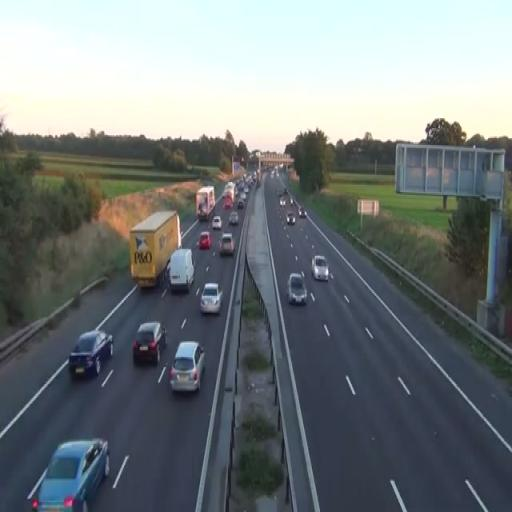Car: (28, 436, 110, 510), (68, 329, 114, 379), (169, 341, 206, 393), (132, 320, 168, 366), (199, 282, 224, 315), (287, 272, 307, 306), (311, 254, 329, 282), (218, 232, 236, 256), (198, 231, 212, 250), (212, 216, 222, 230), (229, 212, 238, 226)
Truck: (129, 210, 182, 289), (167, 248, 195, 294), (196, 186, 216, 221)
